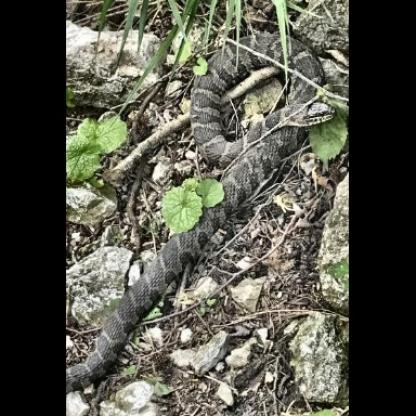Snake: (91, 39, 334, 374)
